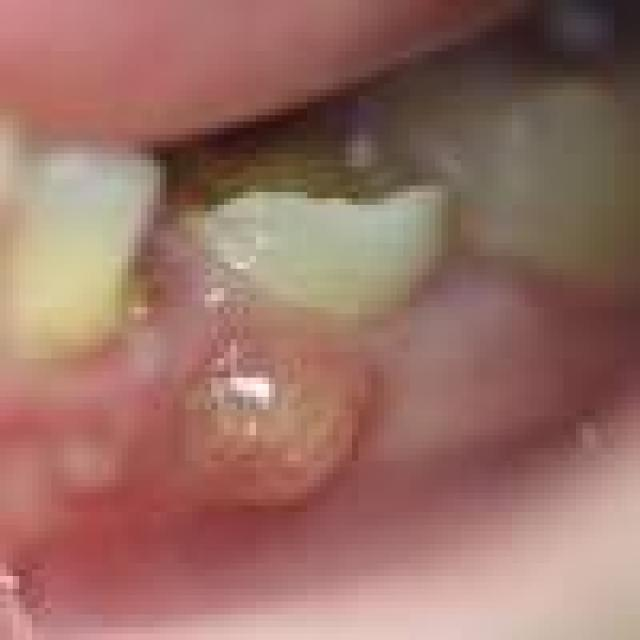abscess: (167, 330, 429, 552)
